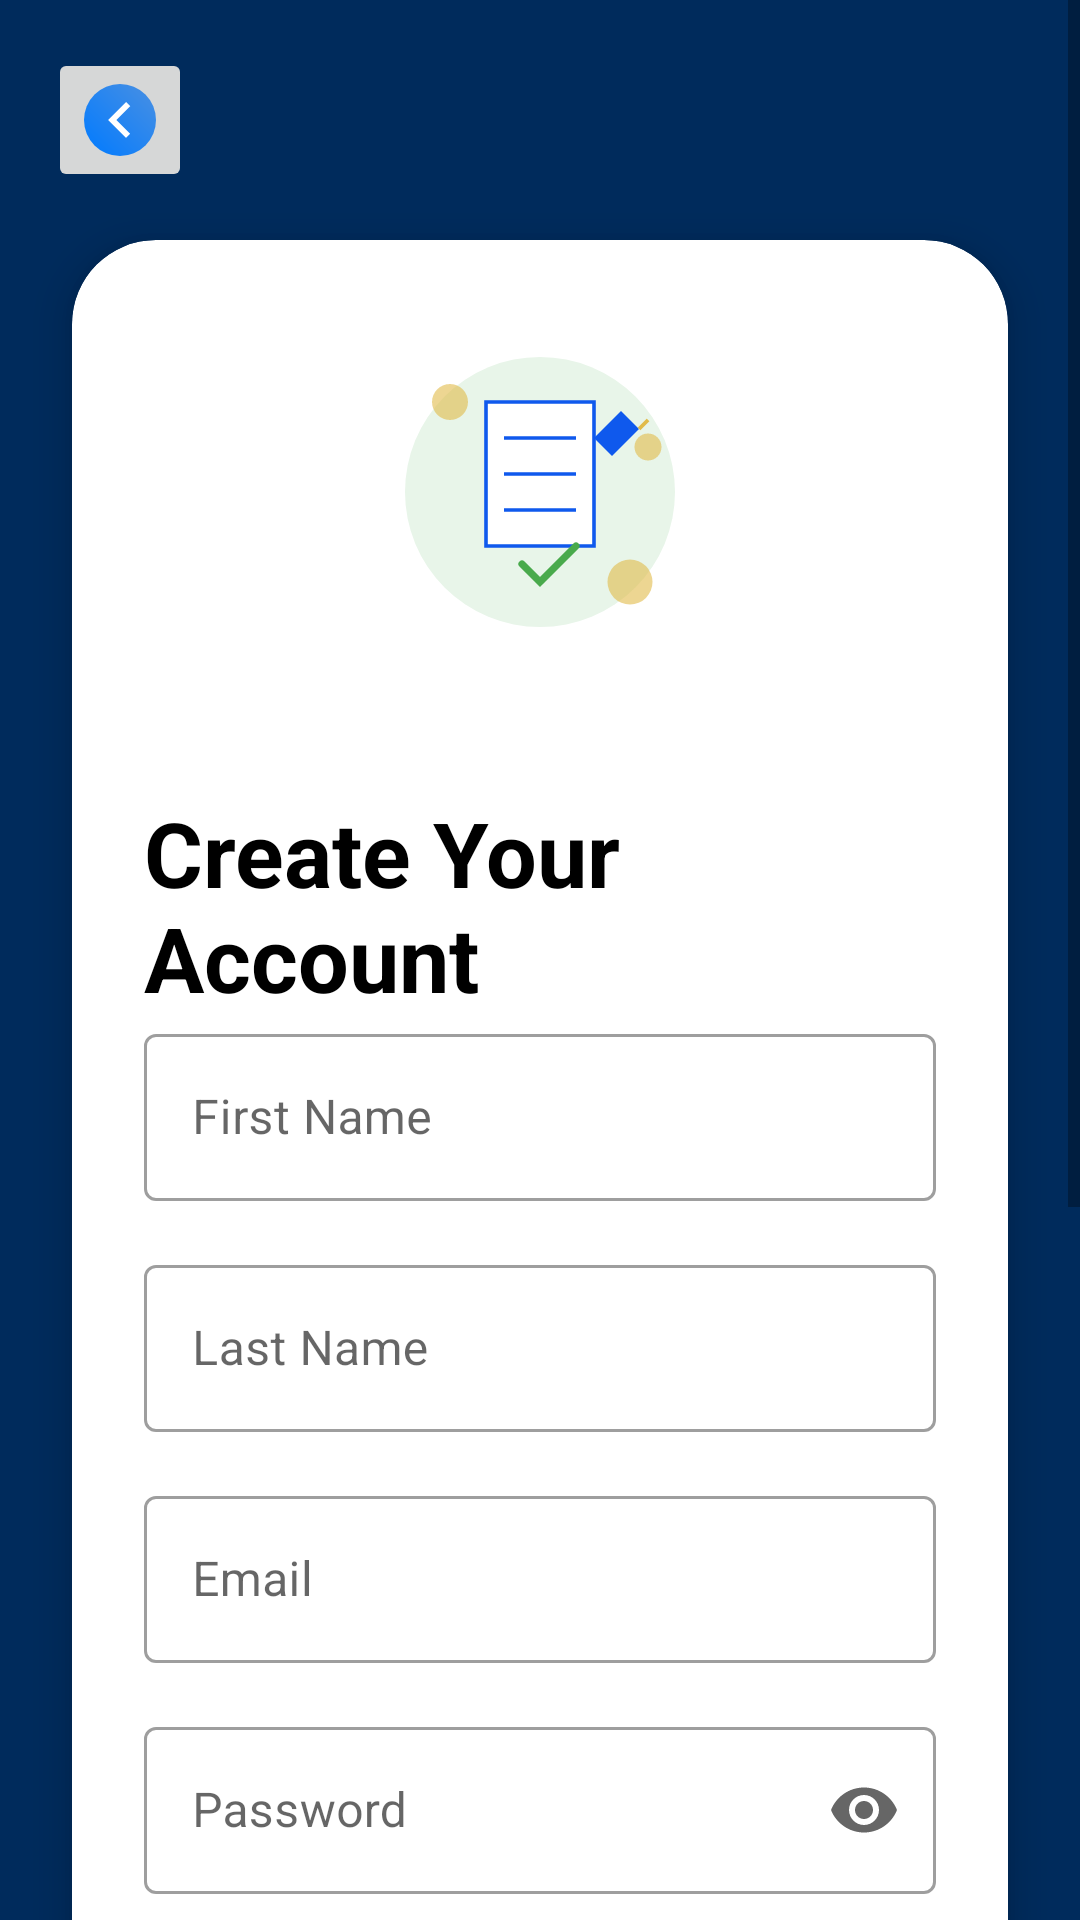

Named icons in this screenshot (1080x1920) and their bounding boxes, BBox(x1, y1, x2, y2):
back: BBox(60, 66, 180, 174)
Registration: BBox(432, 384, 662, 605)
